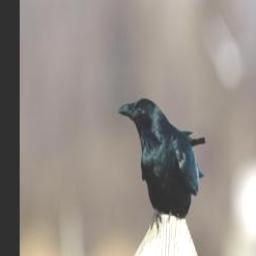Crow: (118, 97, 205, 229)
